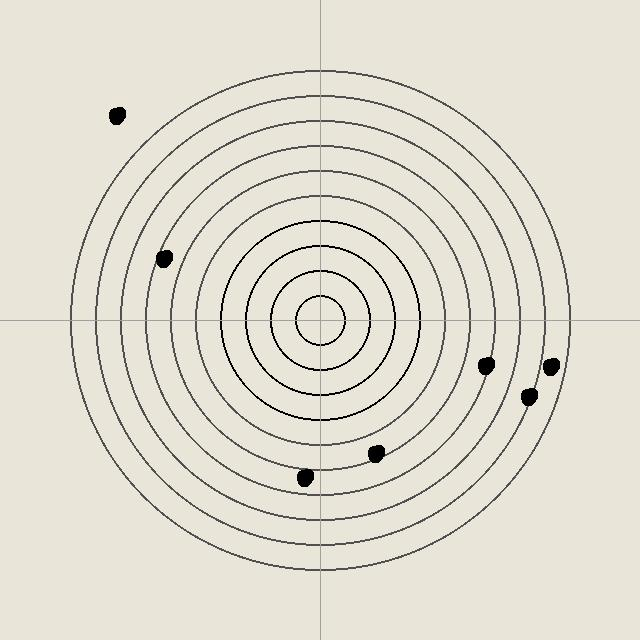random_scatter: (365, 443, 385, 463), (294, 467, 314, 487), (540, 356, 560, 376), (518, 386, 538, 406), (106, 105, 126, 125), (153, 248, 173, 268), (475, 355, 495, 375)
